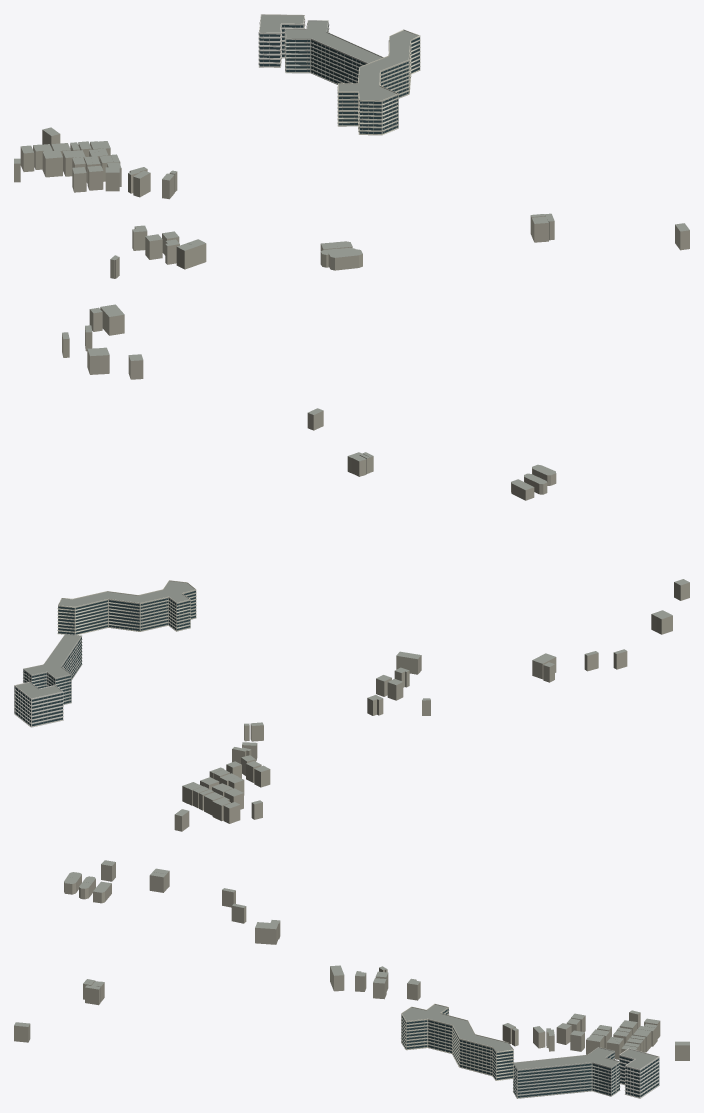
File: zone_1_0-medium.glb
3 renders of one model, top to bottom at view 1: azimuth 30°, elevation 25°; view 2: azimuth 150°, elevation 25°; view 3: azimuth 270°, elevation 25°, orthographic. The views are drawn at different scales.
Parts seen in each view (by area): view 1: web_building_135904508, web_building_135904004, web_building_135904006, web_building_527852768; view 2: web_building_135904508, web_building_135904004, web_building_135904006; view 3: web_building_135904508, web_building_135904004, web_building_135904006, web_building_527852768.
Part boxes in pixels (box(x1,y1,x2,y2)): web_building_135904508: box(337, 29, 420, 135); web_building_135904004: box(285, 20, 383, 84); web_building_135904006: box(258, 14, 305, 67); web_building_527852768: box(100, 304, 124, 335); web_building_135904508: box(57, 580, 196, 634); web_building_135904004: box(23, 633, 82, 704); web_building_135904006: box(14, 681, 63, 727); web_building_135904508: box(401, 1003, 513, 1080); web_building_135904004: box(513, 1047, 620, 1098); web_building_135904006: box(619, 1048, 659, 1098); web_building_527852768: box(255, 922, 278, 944).
Size of the model in its own units: 370 by 121 by 486.
